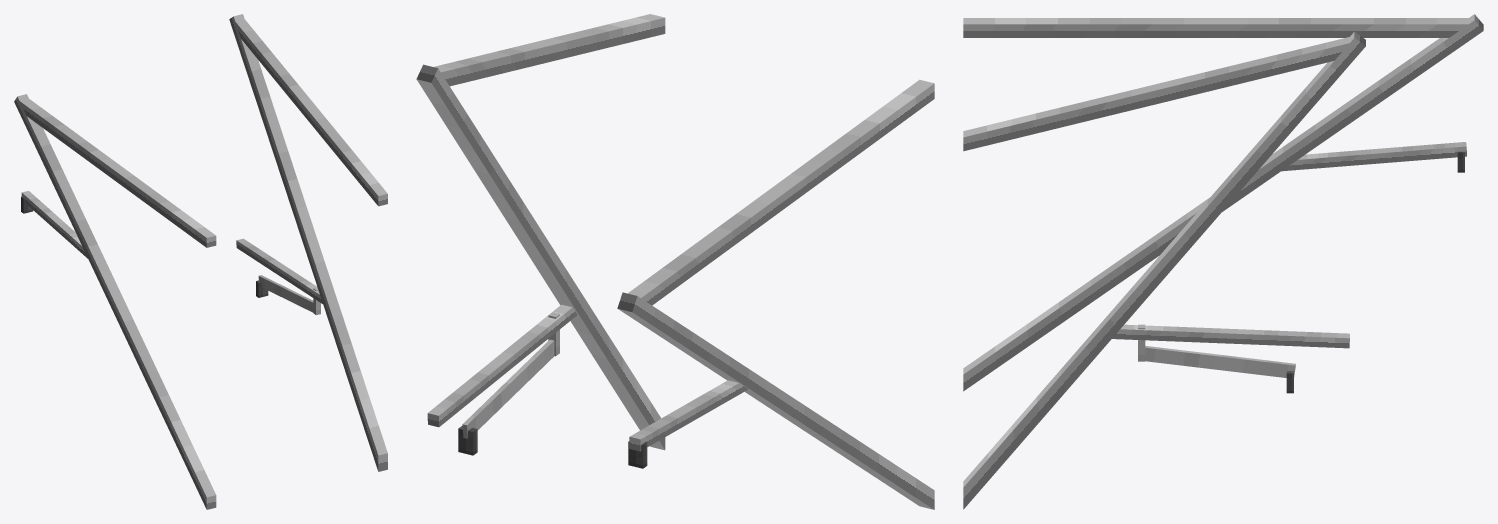
File: cantilever_inner_12px.obj
3 renders of one model, left to right at view 1: azimuth 30°, elevation 25°; view 2: azimuth 150°, elevation 25°; view 3: azimuth 270°, elevation 25°, orthographic. The views are drawn at different scales.
Visible parts, largest first — view 1: 97a9c4d7-ab71-4f69-b903-0e9a1bee0e23, 2f05958e-2bb7-451f-bc48-135985b53020, 8cf823c8-8078-478a-9812-30c30415409e, dea179b3-a9c9-402f-9fd7-f8f4fa6f0039, 9b92bb8a-2c22-4579-8af3-ec37e30b49c2, d33fbfd4-e154-4378-b2d7-8939fccd7fc3, c5422a5c-7d37-42df-9e71-1db147b58be3; view 2: 97a9c4d7-ab71-4f69-b903-0e9a1bee0e23, 8cf823c8-8078-478a-9812-30c30415409e, 2f05958e-2bb7-451f-bc48-135985b53020, dea179b3-a9c9-402f-9fd7-f8f4fa6f0039, 9b92bb8a-2c22-4579-8af3-ec37e30b49c2, d33fbfd4-e154-4378-b2d7-8939fccd7fc3, c5422a5c-7d37-42df-9e71-1db147b58be3; view 3: 97a9c4d7-ab71-4f69-b903-0e9a1bee0e23, 2f05958e-2bb7-451f-bc48-135985b53020, 8cf823c8-8078-478a-9812-30c30415409e, dea179b3-a9c9-402f-9fd7-f8f4fa6f0039, 9b92bb8a-2c22-4579-8af3-ec37e30b49c2, d33fbfd4-e154-4378-b2d7-8939fccd7fc3, c5422a5c-7d37-42df-9e71-1db147b58be3.
Boxes of the visible parts, x1=… form: 97a9c4d7-ab71-4f69-b903-0e9a1bee0e23: x1=229, y1=14, x2=387, y2=471; 2f05958e-2bb7-451f-bc48-135985b53020: x1=14, y1=94, x2=216, y2=509; 8cf823c8-8078-478a-9812-30c30415409e: x1=20, y1=98, x2=216, y2=247; dea179b3-a9c9-402f-9fd7-f8f4fa6f0039: x1=235, y1=19, x2=387, y2=206; 9b92bb8a-2c22-4579-8af3-ec37e30b49c2: x1=236, y1=238, x2=322, y2=303; d33fbfd4-e154-4378-b2d7-8939fccd7fc3: x1=21, y1=191, x2=87, y2=258; c5422a5c-7d37-42df-9e71-1db147b58be3: x1=258, y1=275, x2=313, y2=312; 97a9c4d7-ab71-4f69-b903-0e9a1bee0e23: x1=416, y1=64, x2=665, y2=450; 8cf823c8-8078-478a-9812-30c30415409e: x1=628, y1=79, x2=934, y2=305; 2f05958e-2bb7-451f-bc48-135985b53020: x1=617, y1=292, x2=934, y2=509; dea179b3-a9c9-402f-9fd7-f8f4fa6f0039: x1=434, y1=14, x2=665, y2=86; 9b92bb8a-2c22-4579-8af3-ec37e30b49c2: x1=427, y1=304, x2=577, y2=427; d33fbfd4-e154-4378-b2d7-8939fccd7fc3: x1=629, y1=380, x2=748, y2=451; c5422a5c-7d37-42df-9e71-1db147b58be3: x1=462, y1=339, x2=554, y2=438; 97a9c4d7-ab71-4f69-b903-0e9a1bee0e23: x1=963, y1=32, x2=1365, y2=509; 2f05958e-2bb7-451f-bc48-135985b53020: x1=963, y1=14, x2=1483, y2=391; 8cf823c8-8078-478a-9812-30c30415409e: x1=963, y1=18, x2=1468, y2=37; dea179b3-a9c9-402f-9fd7-f8f4fa6f0039: x1=963, y1=37, x2=1349, y2=151; 9b92bb8a-2c22-4579-8af3-ec37e30b49c2: x1=1112, y1=324, x2=1349, y2=348; d33fbfd4-e154-4378-b2d7-8939fccd7fc3: x1=1281, y1=142, x2=1466, y2=171; c5422a5c-7d37-42df-9e71-1db147b58be3: x1=1145, y1=346, x2=1295, y2=377.
Size of the model in its own units: 1.19 by 2.19 by 2.19.
